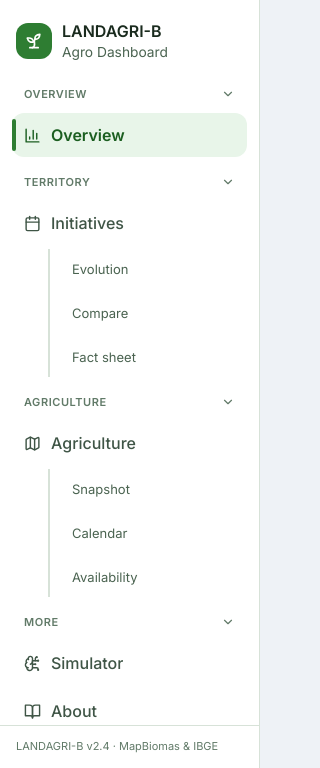
Test: AppSidebar collapsible groups (Fase 3) › collapses and re-expands a group on toggle
Expected: the link "Initiatives" is shown, [24, 213, 124, 233]
Click the button "Territory" at (130, 183), box [12, 165, 247, 201]
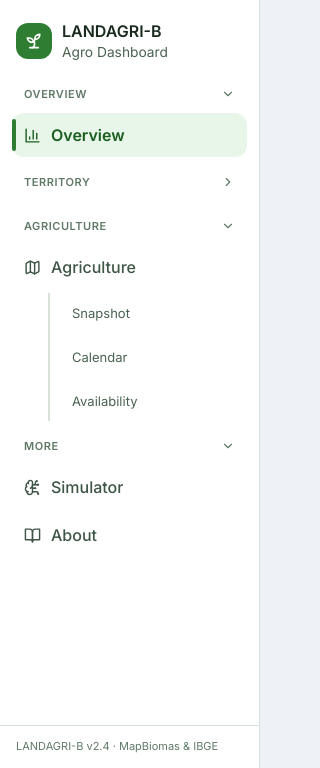
Result: the button "Territory" is collapsed
Result: the link "Initiatives" is gone
Click the button "Territory" at (130, 183), box [12, 165, 247, 201]
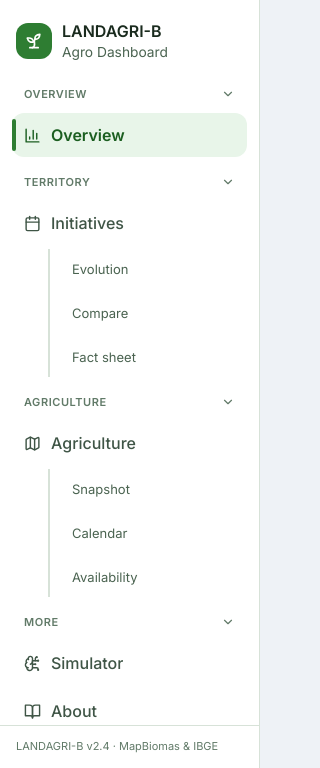
Result: the button "Territory" is expanded at [12, 165, 247, 201]
